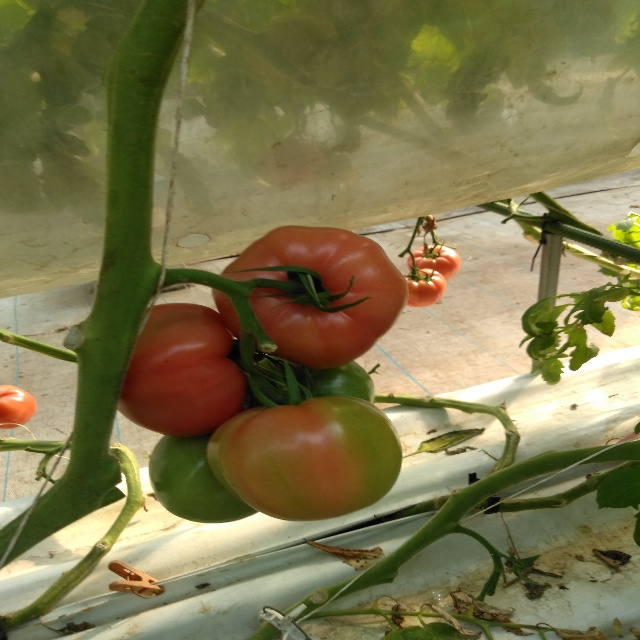b_fully_ripened: (117, 303, 246, 437), (0, 385, 38, 429)
b_green: (149, 435, 258, 524), (243, 353, 375, 409)
b_half_ripened: (212, 224, 410, 370), (206, 396, 402, 522), (405, 244, 462, 280), (404, 267, 447, 307)
